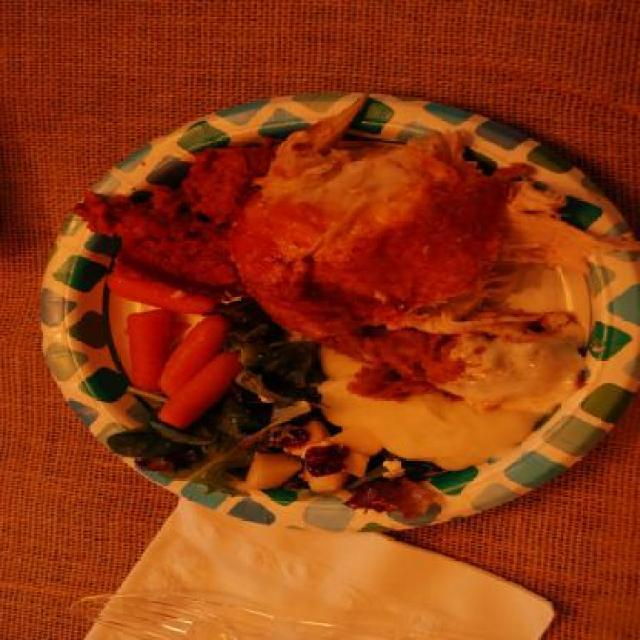Carrot: (128, 300, 268, 438)
